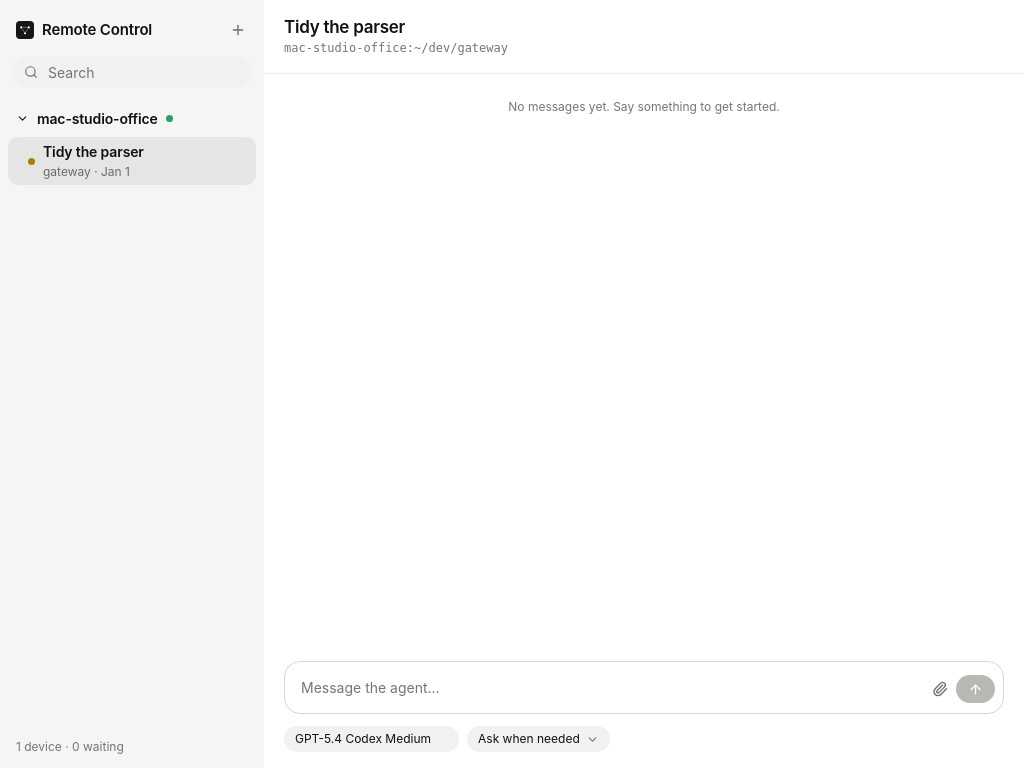
it: the model card writes before the device answers › puts the previous value back when the device refuses
Click the button with aria-label "Model and effort": (372, 739) [284, 726, 459, 752]
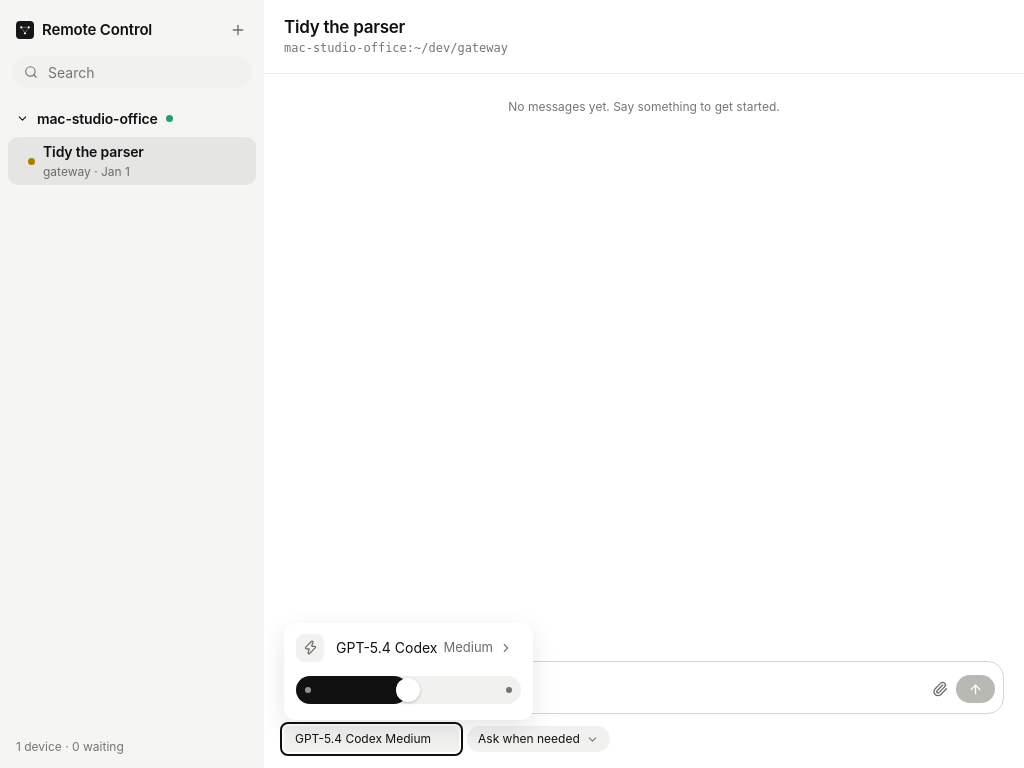
Click the button named "Speed, Standard": (310, 648) [296, 634, 324, 662]
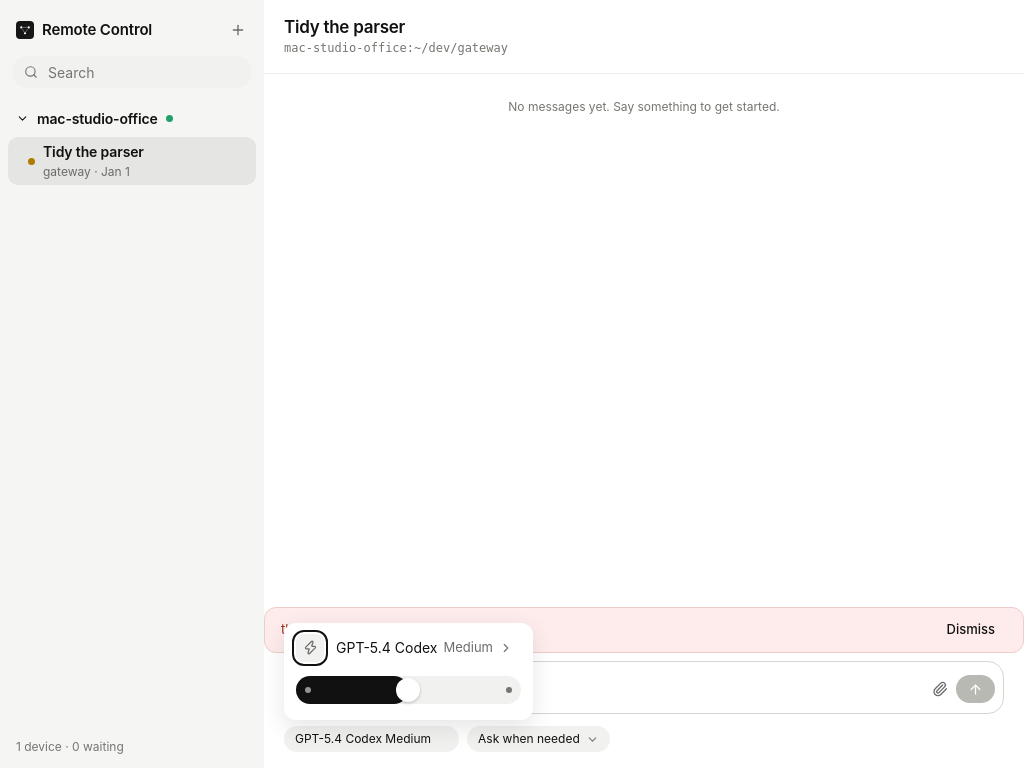
Now the text "the agent is busy" is shown, box [281, 621, 386, 637]
